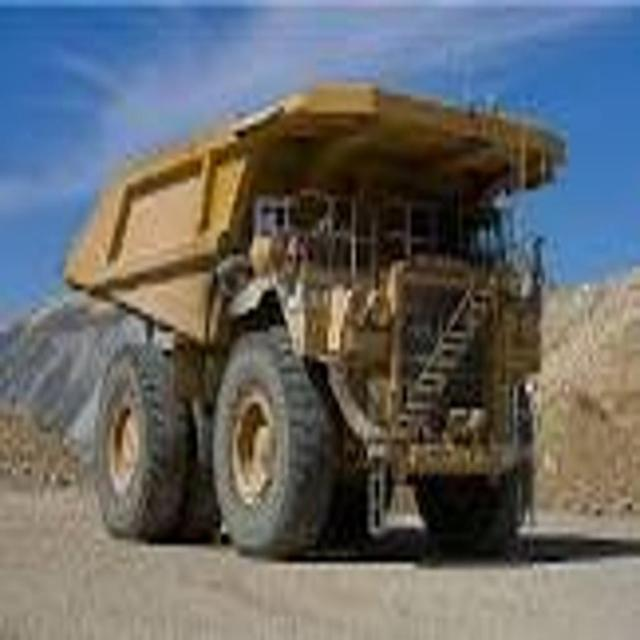dump_truck: (61, 66, 554, 559)
